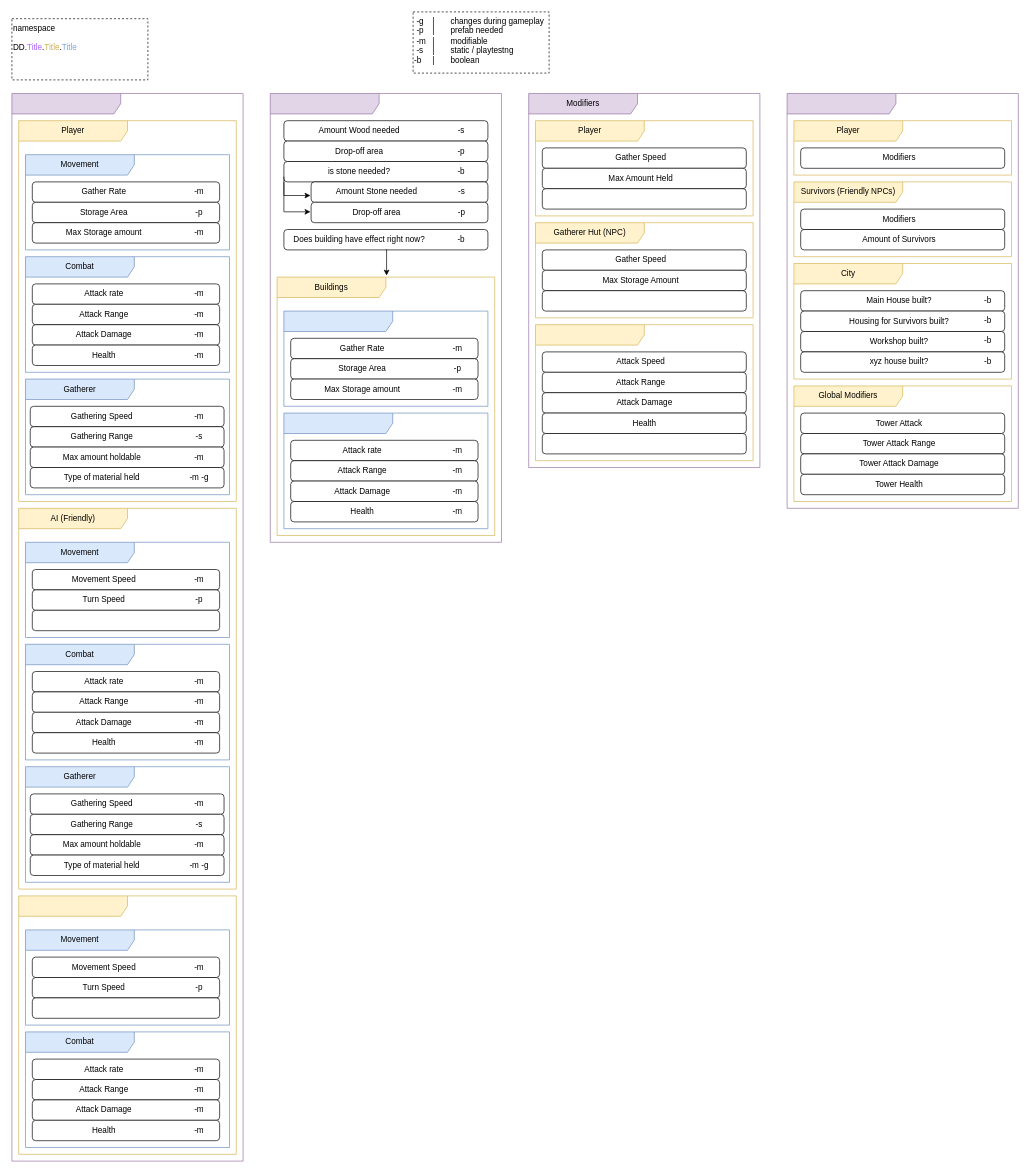
The diagram is 1030 pixels wide and 1173 high, and some of its shapes have lost their labels. The box of each missing label's shape, as (x1, y1, x2, y2) in pixels:
AI (Enemy): (18, 895, 236, 1154)
Builder: (270, 93, 502, 542)
Core: (11, 93, 243, 1161)
Gathering Hut: (283, 310, 488, 406)
Saving: (786, 93, 1018, 508)
Tower: (283, 412, 488, 529)
Tower (NPC): (535, 324, 753, 461)
